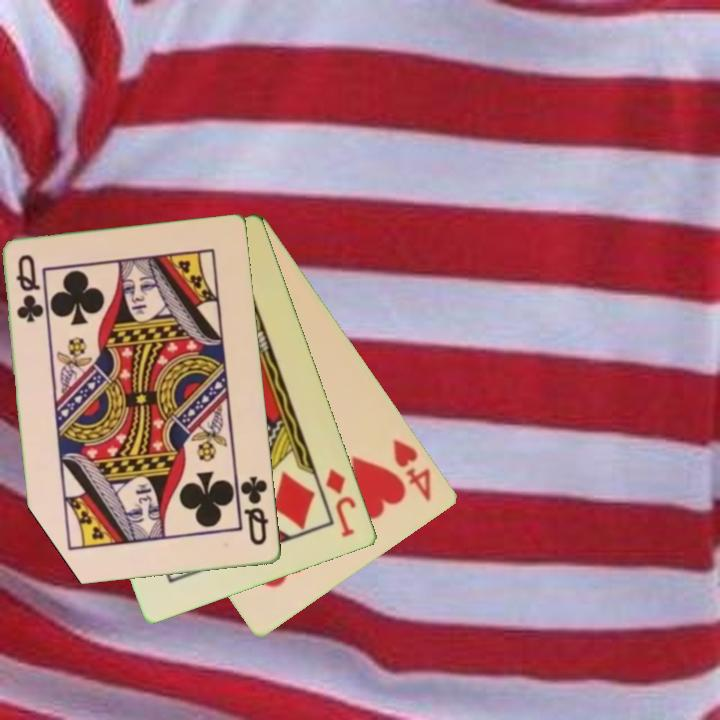4h: (389, 436, 435, 504)
Jd: (322, 465, 360, 541)
Qc: (237, 472, 272, 549), (13, 251, 46, 326)
